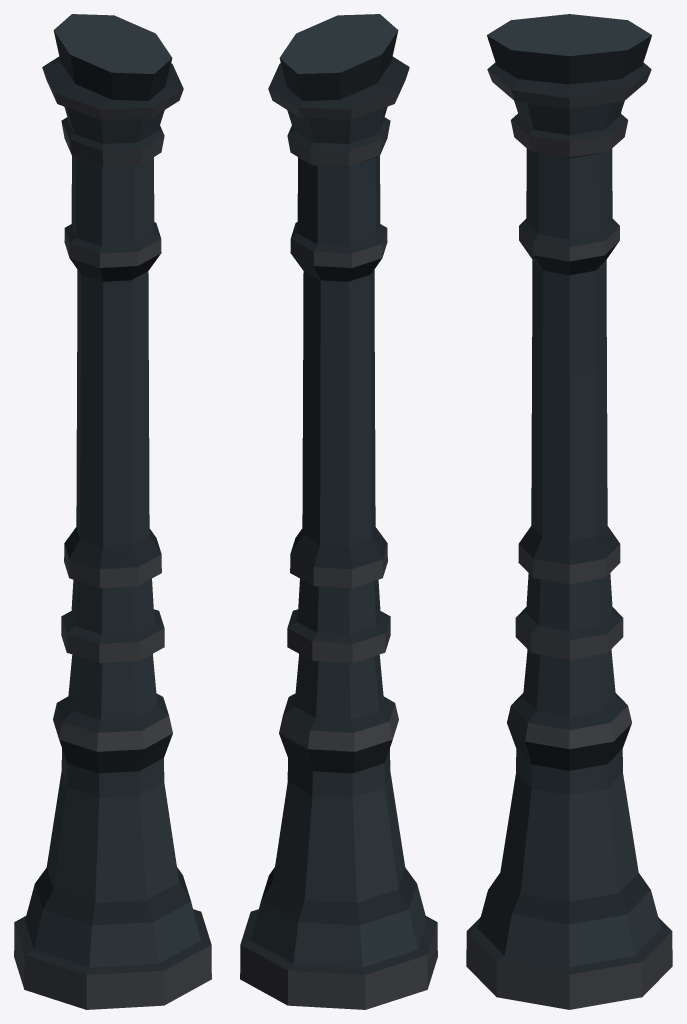
File: 3D_Clock-stick.fbx
The picture shows the model from 3 angles, left to right: view 1: azimuth 30°, elevation 25°; view 2: azimuth 150°, elevation 25°; view 3: azimuth 270°, elevation 25°; orthographic projection.
Visible parts, largest first — view 1: 3D_Clock-stick; view 2: 3D_Clock-stick; view 3: 3D_Clock-stick.
Part boxes in pixels (box(x1,y1,x2,y2)): 3D_Clock-stick: box(14, 14, 211, 1009); 3D_Clock-stick: box(240, 14, 437, 1009); 3D_Clock-stick: box(466, 14, 672, 1009).
Size of the model in its own units: 53.16 by 265 by 53.16.
